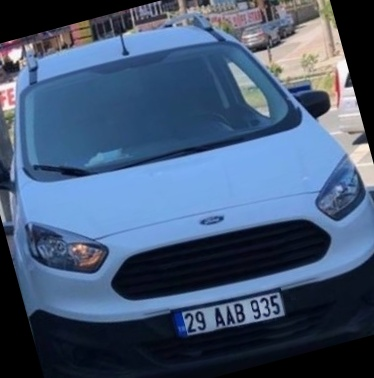plaka: (171, 292, 286, 335)
